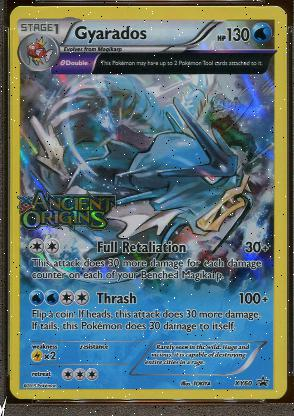Card: (5, 0, 291, 404)
